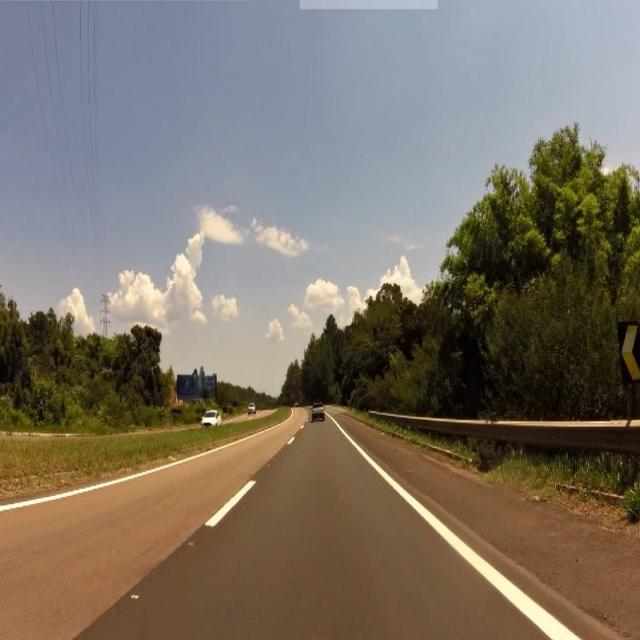Del: (615, 321, 640, 383)
